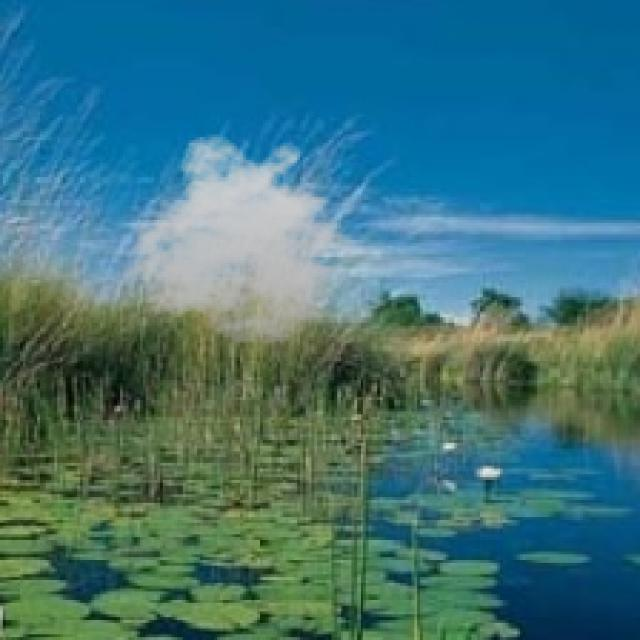smoke: (123, 134, 371, 346)
